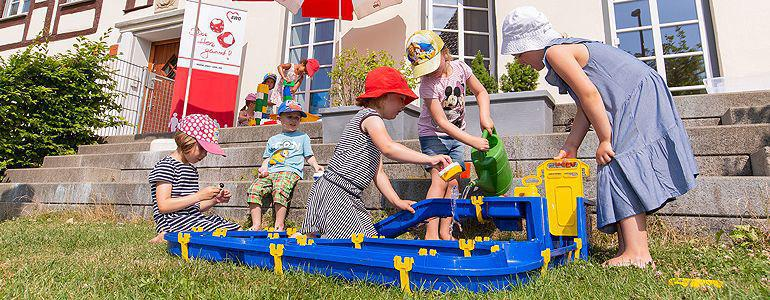child: (399, 27, 487, 243), (309, 65, 408, 246), (139, 111, 238, 244), (246, 96, 304, 236)
